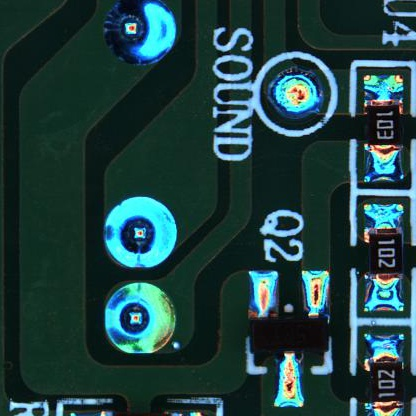spot: (93, 189, 183, 272), (96, 277, 187, 359), (266, 59, 327, 127)
